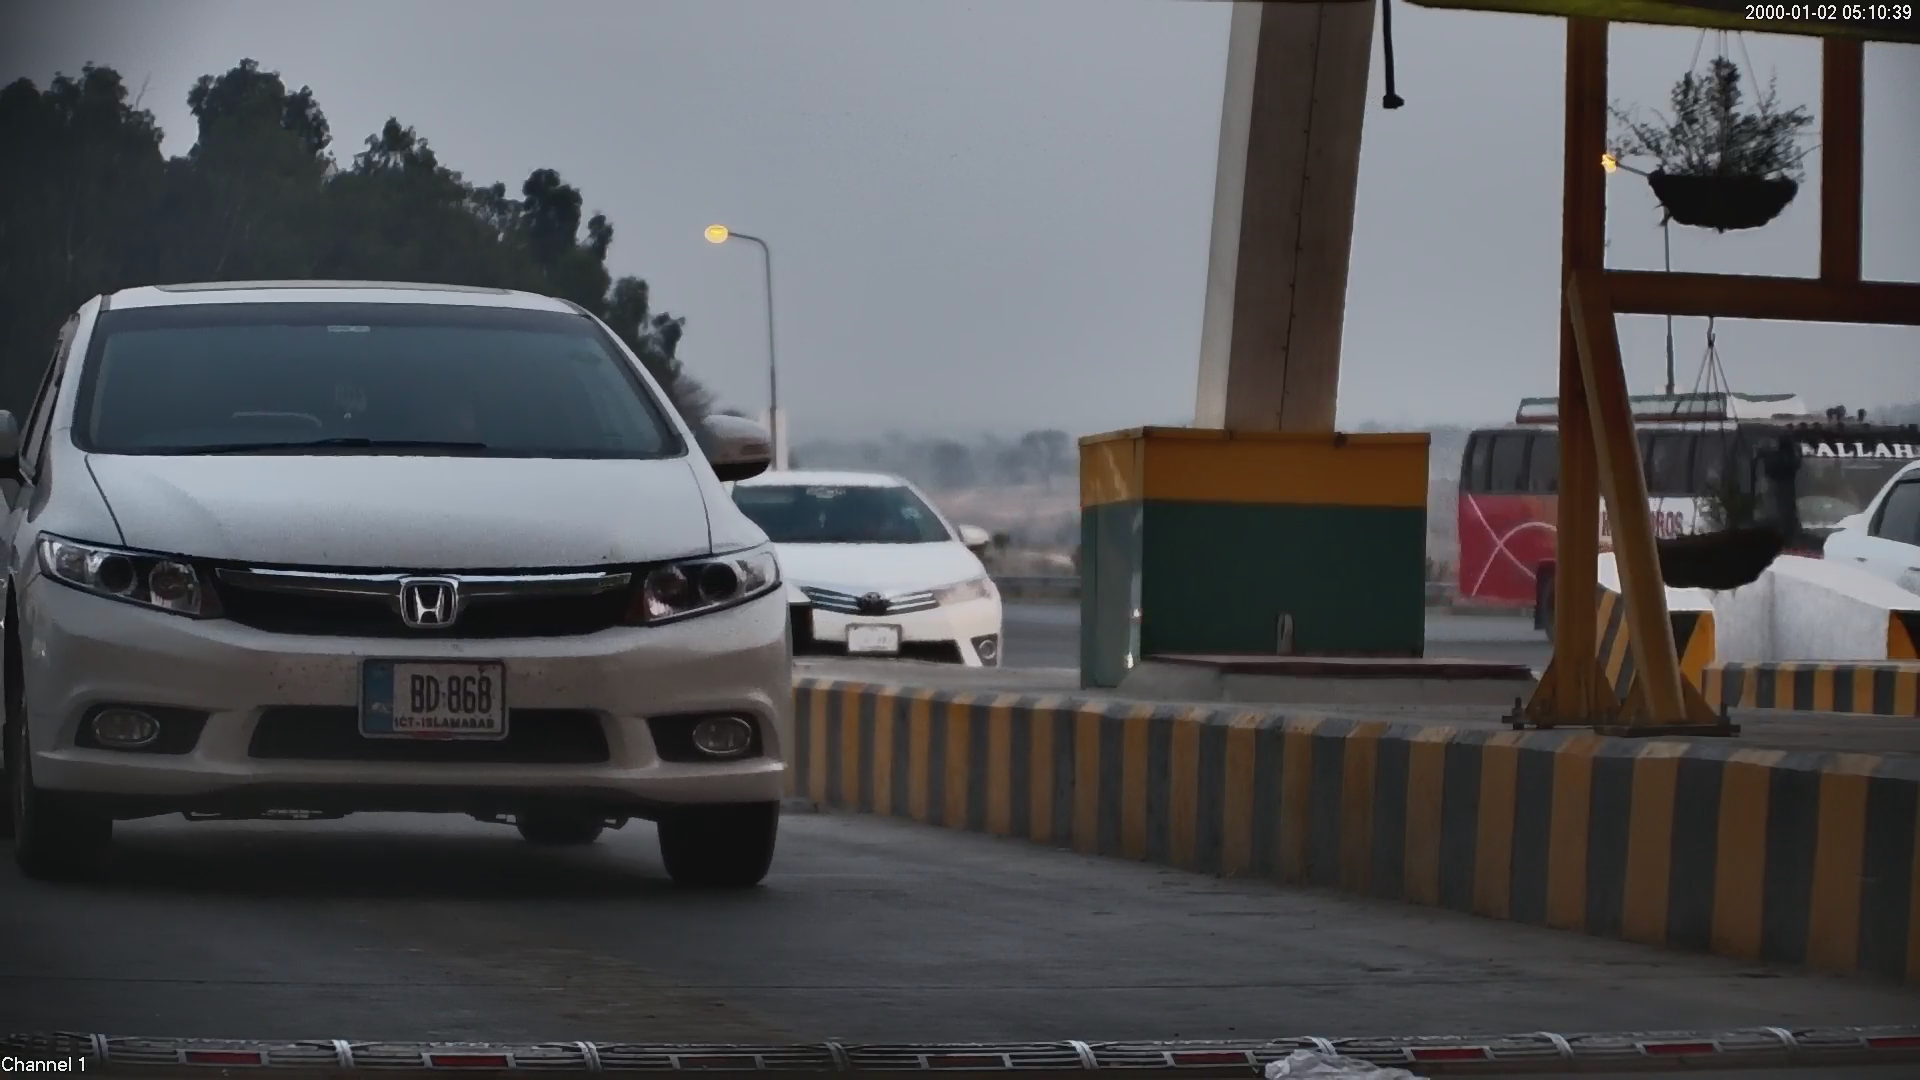Number_Plate: (356, 649, 515, 751)
